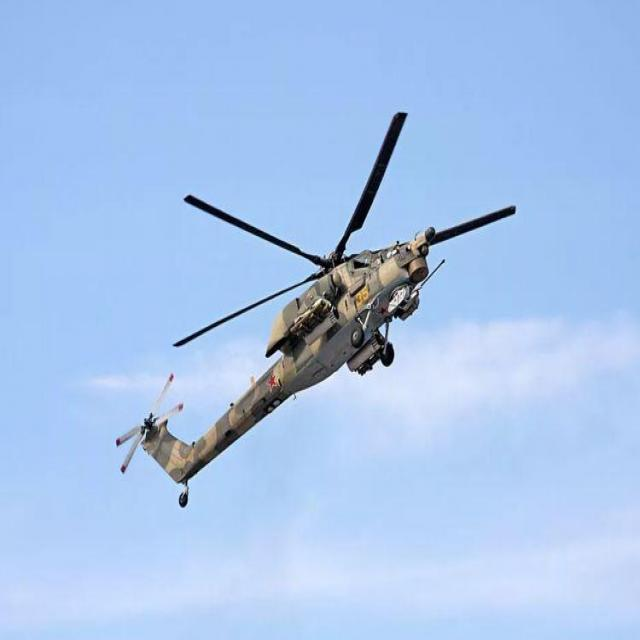MIL_HELO: (100, 105, 520, 514)
